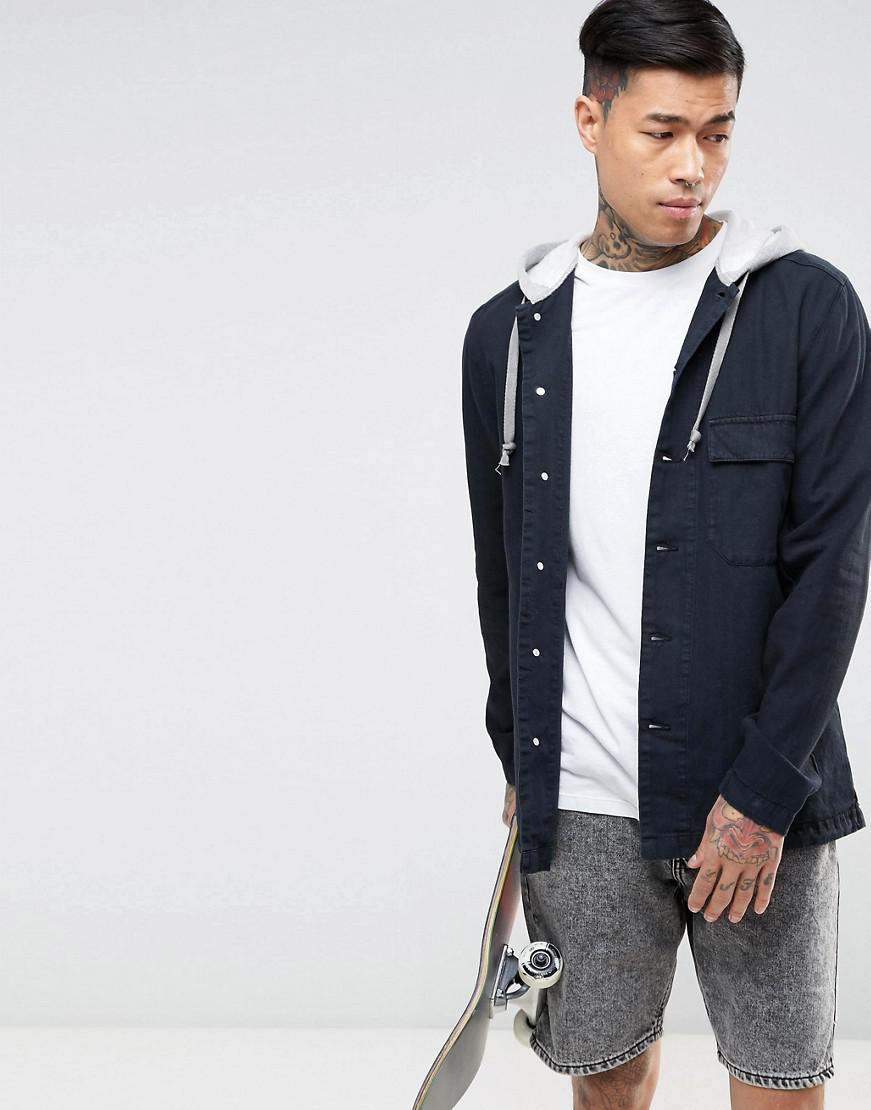teeshirt: (439, 229, 871, 889)
